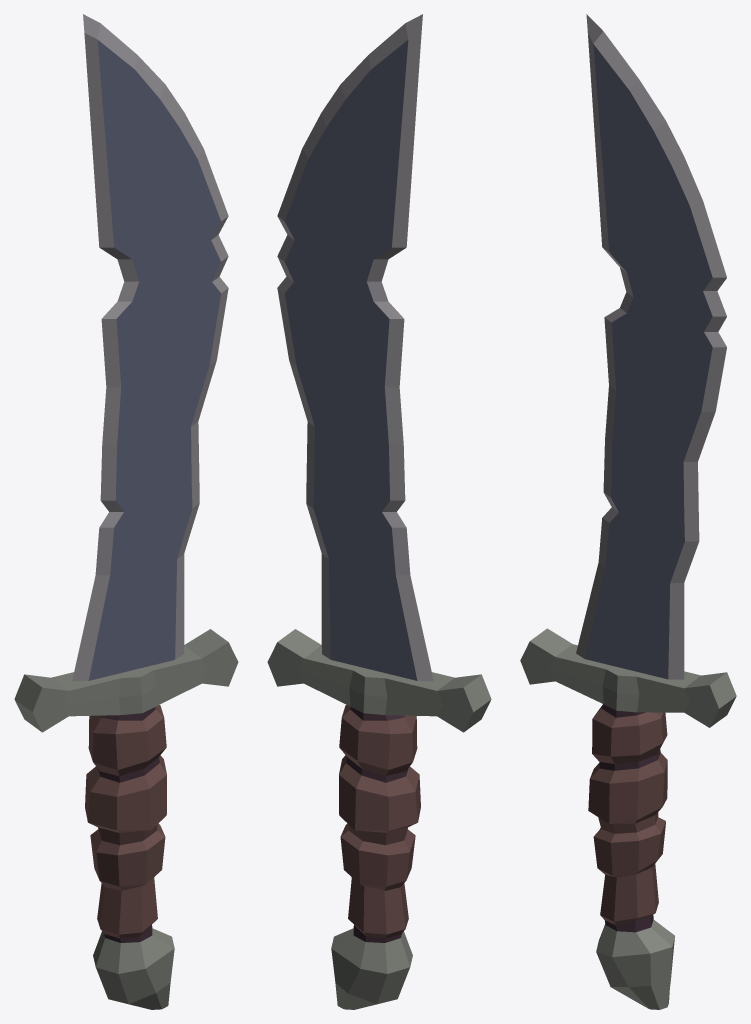
The model's file is Dagger.glb.
3 renders of one model, left to right at view 1: azimuth 30°, elevation 25°; view 2: azimuth 150°, elevation 25°; view 3: azimuth 330°, elevation 25°, orthographic. The views are drawn at different scales.
Parts seen in each view (by area): view 1: Dagger_Cylinder.035; view 2: Dagger_Cylinder.035; view 3: Dagger_Cylinder.035.
Part boxes in pixels (x1=…): Dagger_Cylinder.035: x1=14, y1=14, x2=238, y2=1009; Dagger_Cylinder.035: x1=267, y1=14, x2=491, y2=1009; Dagger_Cylinder.035: x1=520, y1=14, x2=736, y2=1009.
Bounding box in the file's own units: 0.2971 × 1.39 × 0.1109.
1 material, 1 textured.
